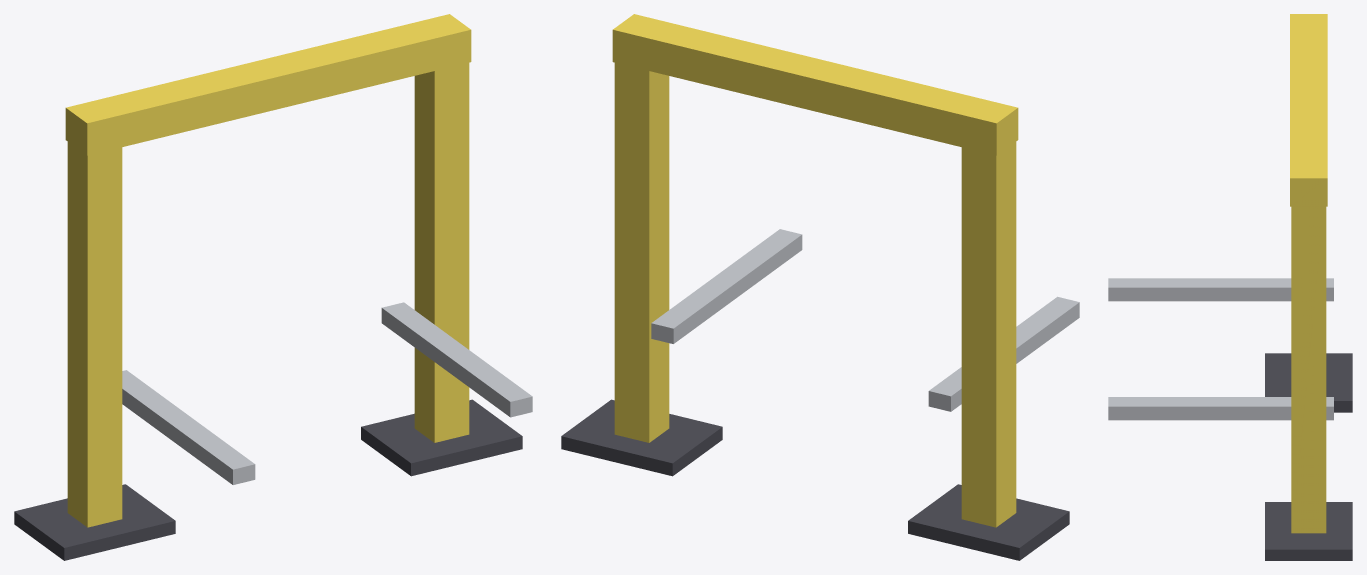
File: car_lift_2post.glb
The picture shows the model from 3 angles, left to right: view 1: azimuth 30°, elevation 25°; view 2: azimuth 150°, elevation 25°; view 3: azimuth 270°, elevation 25°; orthographic projection. The views are drawn at different scales.
Visible parts, largest first — view 1: car_lift_2post; view 2: car_lift_2post; view 3: car_lift_2post.
Part boxes in pixels (x1=…): car_lift_2post: x1=14, y1=14, x2=532, y2=560; car_lift_2post: x1=561, y1=14, x2=1079, y2=560; car_lift_2post: x1=1108, y1=14, x2=1352, y2=560.
Bounding box in the file's own units: 3.7 × 3.22 × 1.95.
